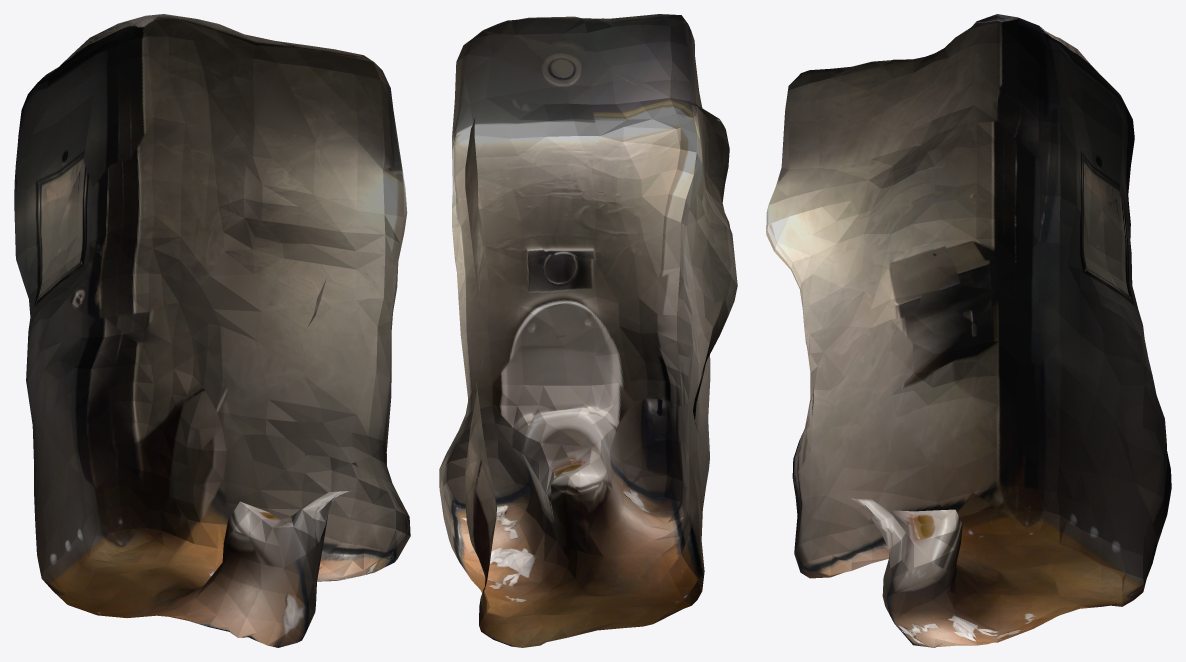
The model's file is melkweg.glb.
3 views of the same model, side by side, from view 1: azimuth 30°, elevation 25°; view 2: azimuth 150°, elevation 25°; view 3: azimuth 270°, elevation 25° (orthographic). The views are drawn at different scales.
Parts seen in each view (by area): view 1: mesh; view 2: mesh; view 3: mesh.
Boxes of the visible parts, x1,y1,x2,y2 form: mesh: [14, 14, 410, 647]; mesh: [439, 14, 737, 647]; mesh: [766, 14, 1171, 647].
Size of the model in its own units: 1.43 by 2.28 by 1.56.
1 material, 1 textured.
